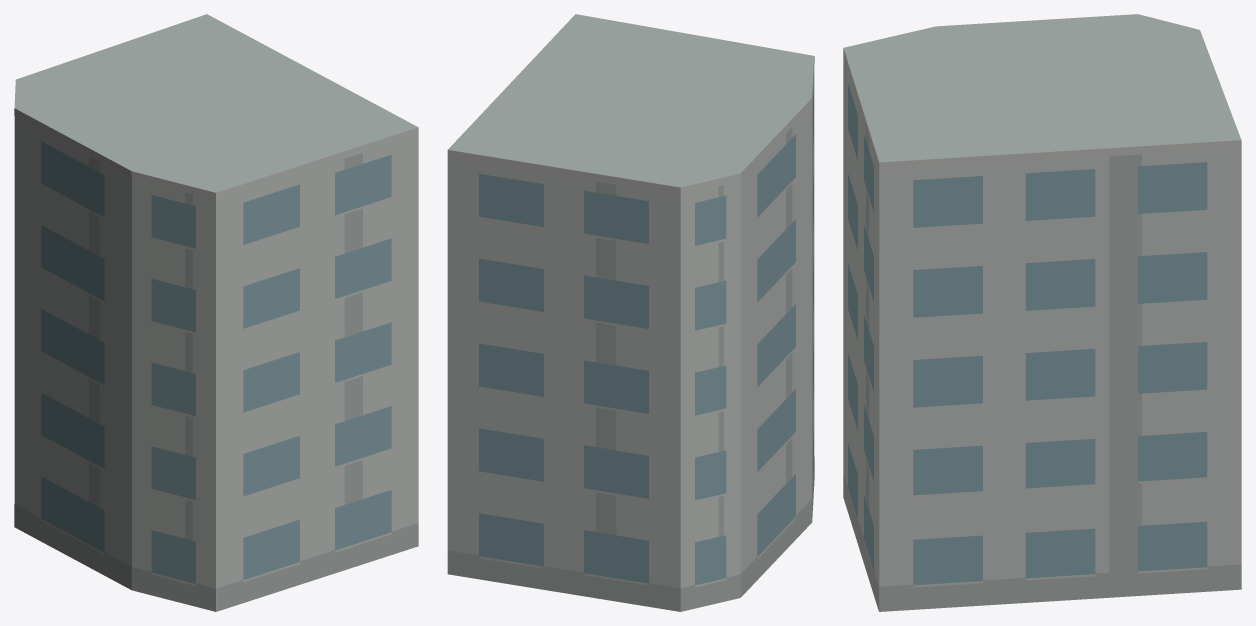
The model's file is survey-upis-32561656.glb.
3 renders of one model, left to right at view 1: azimuth 30°, elevation 25°; view 2: azimuth 150°, elevation 25°; view 3: azimuth 270°, elevation 25°, orthographic. The views are drawn at different scales.
Parts seen in each view (by area): view 1: survey-upis-32561656.tmp; view 2: survey-upis-32561656.tmp; view 3: survey-upis-32561656.tmp.
Boxes of the visible parts, left/top/right/bottom form: survey-upis-32561656.tmp: left=14, top=14, right=418, bottom=611; survey-upis-32561656.tmp: left=447, top=14, right=814, bottom=611; survey-upis-32561656.tmp: left=843, top=14, right=1241, bottom=611.
Bounding box in the file's own units: 9.5 × 13.4 × 10.77.
